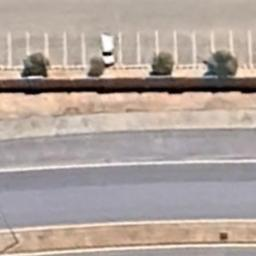van: (98, 31, 116, 65)
